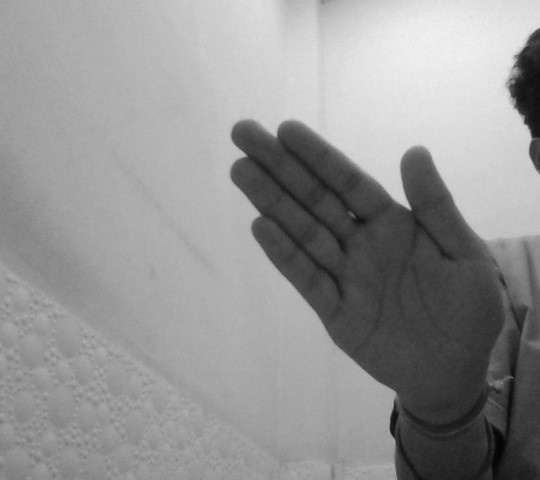Hello: (226, 115, 507, 408)
